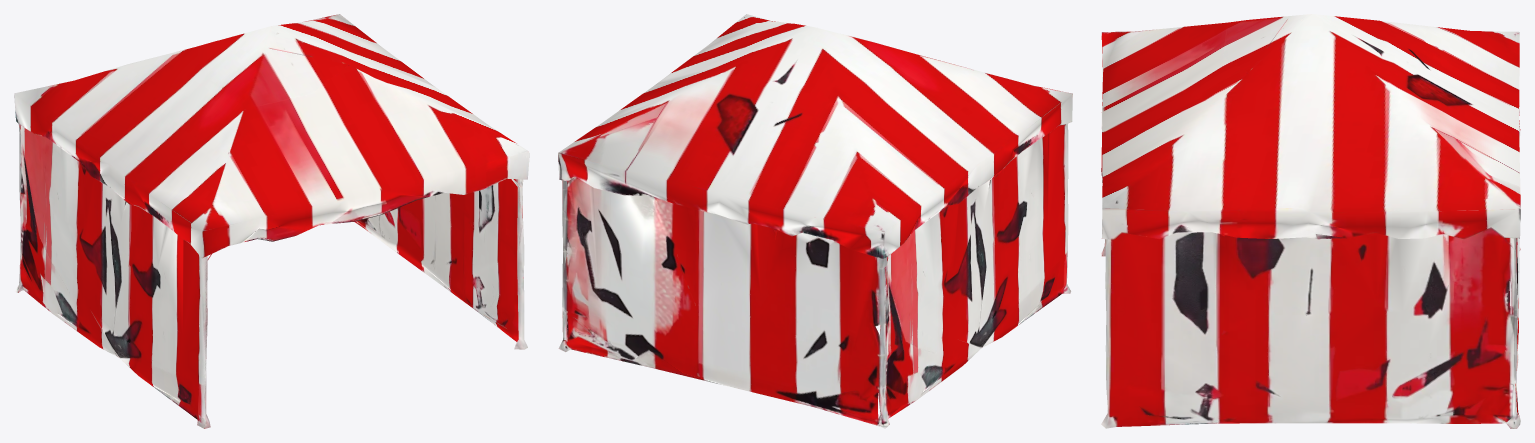
The model's file is Tent.glb.
The picture shows the model from 3 angles, left to right: view 1: azimuth 30°, elevation 25°; view 2: azimuth 150°, elevation 25°; view 3: azimuth 270°, elevation 25°; orthographic projection. The views are drawn at different scales.
Parts seen in each view (by area): view 1: Mesh_0; view 2: Mesh_0; view 3: Mesh_0.
Boxes of the visible parts, <box> form: Mesh_0: <box>14,14,529,428</box>; Mesh_0: <box>558,14,1072,428</box>; Mesh_0: <box>1101,14,1520,428</box>.
Bounding box in the file's own units: 1.9 × 1.63 × 1.9.
Materials: 1 (1 with a texture image).
